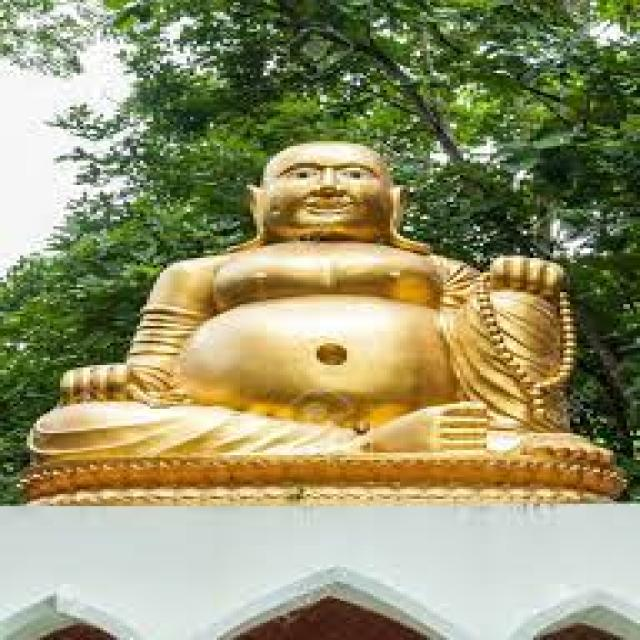Smiling Buddha: (121, 135, 526, 452)
